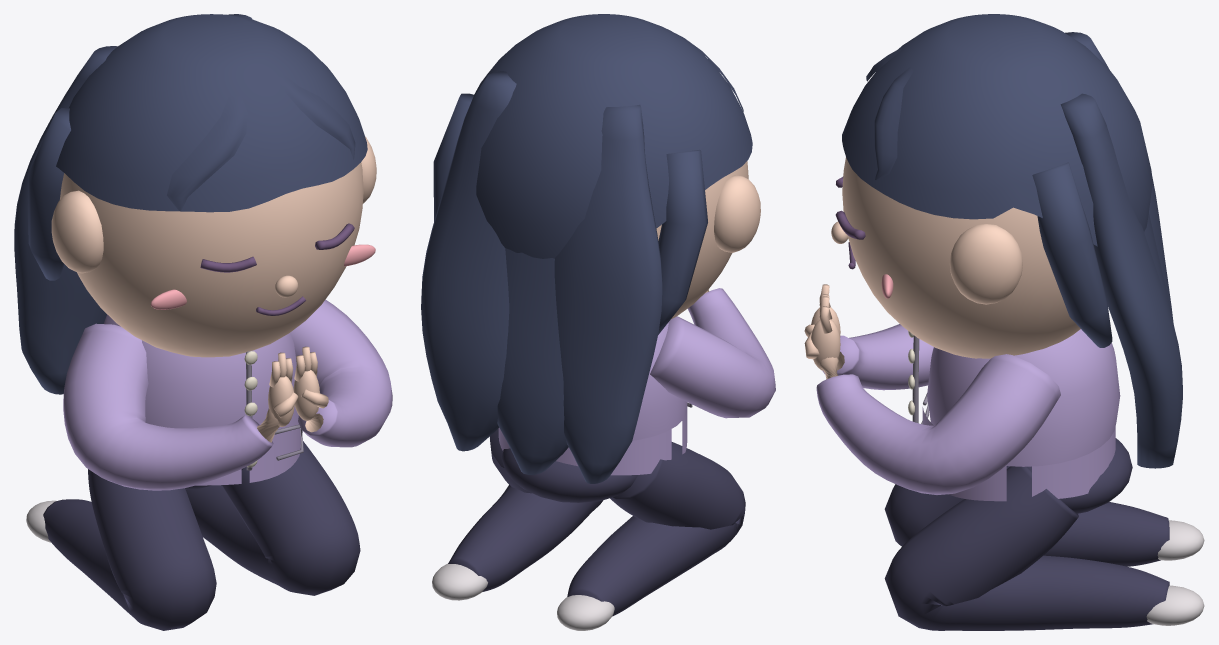
File: meditator_female_kneel_prayer_p05.glb
The picture shows the model from 3 angles, left to right: view 1: azimuth 30°, elevation 25°; view 2: azimuth 150°, elevation 25°; view 3: azimuth 270°, elevation 25°; orthographic projection. The views are drawn at different scales.
Parts seen in each view (by area): view 1: hair_blue_black_UpperBodyBreath_object, skin_rose_cream_UpperBodyBreath_object, ao_ba_ba_top_UpperBodyBreath_object, ao_ba_ba_pants_SeatRoot_object, eyes_mauve_UpperBodyBreath_object, skin_blush_UpperBodyBreath_object, sandal_trim_SeatRoot_object; view 2: hair_blue_black_UpperBodyBreath_object, ao_ba_ba_pants_SeatRoot_object, ao_ba_ba_top_UpperBodyBreath_object, skin_rose_cream_UpperBodyBreath_object, sandal_trim_SeatRoot_object; view 3: hair_blue_black_UpperBodyBreath_object, ao_ba_ba_top_UpperBodyBreath_object, ao_ba_ba_pants_SeatRoot_object, skin_rose_cream_UpperBodyBreath_object, sandal_trim_SeatRoot_object, ao_ba_ba_placket_UpperBodyBreath_object, eyes_mauve_UpperBodyBreath_object.
Part boxes in pixels (<box>): hair_blue_black_UpperBodyBreath_object: <box>14,14,367,394</box>; skin_rose_cream_UpperBodyBreath_object: <box>51,136,376,442</box>; ao_ba_ba_top_UpperBodyBreath_object: <box>63,299,392,490</box>; ao_ba_ba_pants_SeatRoot_object: <box>43,441,360,630</box>; eyes_mauve_UpperBodyBreath_object: <box>200,223,354,315</box>; skin_blush_UpperBodyBreath_object: <box>150,244,375,309</box>; sandal_trim_SeatRoot_object: <box>26,500,56,542</box>; hair_blue_black_UpperBodyBreath_object: <box>421,14,752,483</box>; ao_ba_ba_pants_SeatRoot_object: <box>448,428,745,616</box>; ao_ba_ba_top_UpperBodyBreath_object: <box>498,288,775,475</box>; skin_rose_cream_UpperBodyBreath_object: <box>656,161,760,319</box>; sandal_trim_SeatRoot_object: <box>432,563,614,630</box>; hair_blue_black_UpperBodyBreath_object: <box>842,14,1182,468</box>; ao_ba_ba_top_UpperBodyBreath_object: <box>816,324,1120,501</box>; ao_ba_ba_pants_SeatRoot_object: <box>884,438,1169,630</box>; skin_rose_cream_UpperBodyBreath_object: <box>804,157,1080,379</box>; sandal_trim_SeatRoot_object: <box>1146,520,1204,625</box>; ao_ba_ba_placket_UpperBodyBreath_object: <box>912,335,928,424</box>; eyes_mauve_UpperBodyBreath_object: <box>835,176,865,269</box>.
Bounding box in the file's own units: 0.672 × 1.15 × 0.7409.
